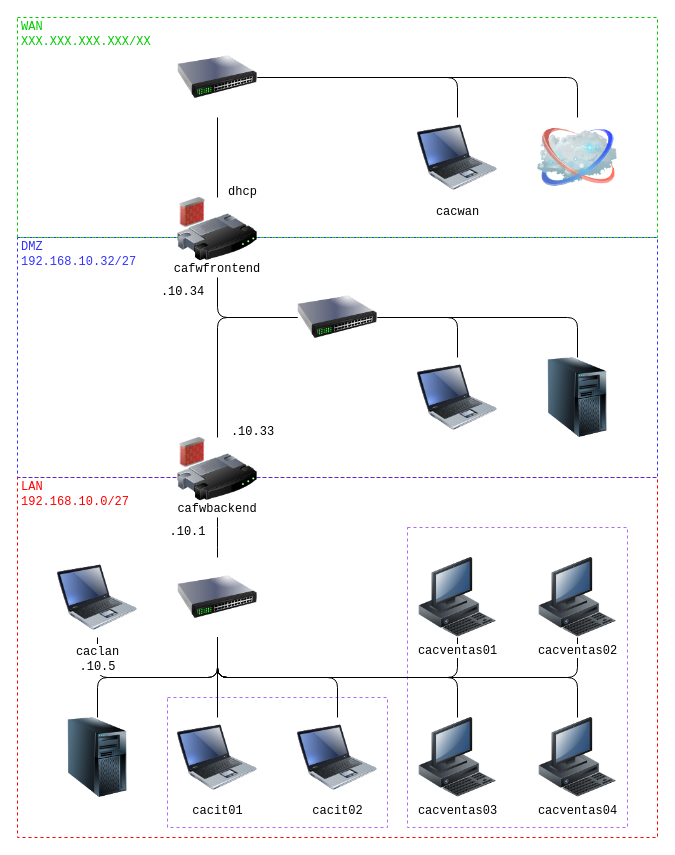
This 675x855 diagram has some shape labels left out. The shapes that lost their labels are listed below. From the top down, each one's box as (x1, y1, x2, y2) in pixels, then its label:
(537, 117, 617, 197): wan
(417, 357, 497, 437): cacdmz .10.36
(537, 357, 617, 437): caserver02 .10.35
(406, 526, 628, 828): DHCP - .10.11-.10.30
(57, 717, 137, 797): caserver01 .10.2
(166, 696, 388, 828): DHCP Reservation
